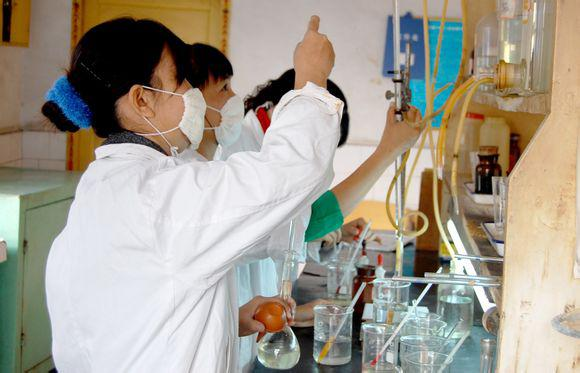OK: (143, 71, 206, 152), (198, 75, 247, 142)
